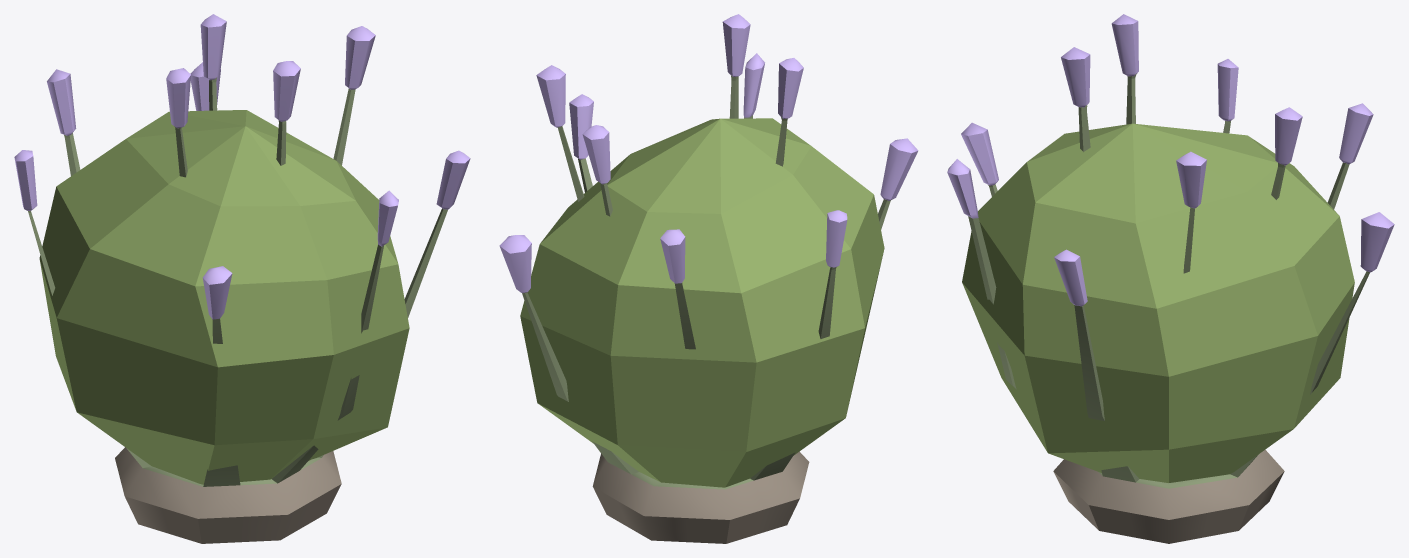
The model's file is lavande.fbx.
3 views of the same model, side by side, from view 1: azimuth 30°, elevation 25°; view 2: azimuth 150°, elevation 25°; view 3: azimuth 270°, elevation 25° (orthographic). The views are drawn at different scales.
Visible parts, largest first — view 1: arbuste1; view 2: arbuste1; view 3: arbuste1.
Part boxes in pixels (x1,y1,x2,y2): arbuste1: (14, 14, 470, 543); arbuste1: (499, 14, 918, 543); arbuste1: (947, 14, 1394, 543).
Bounding box in the file's own units: 0.9331 × 1.15 × 1.01.
